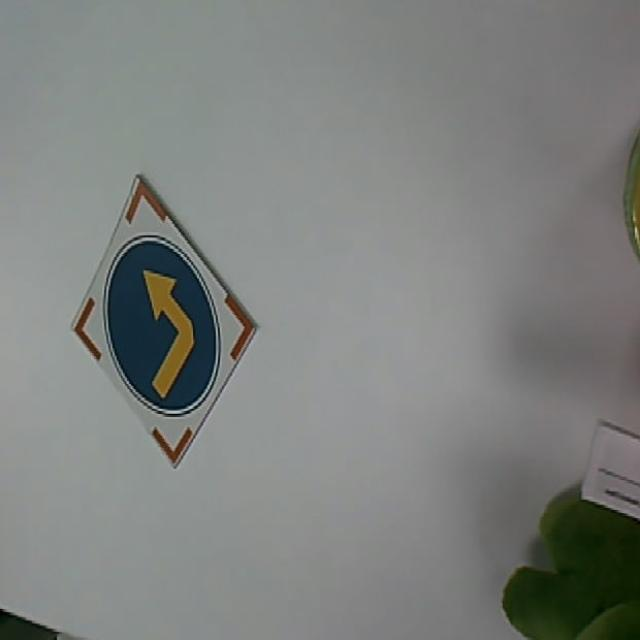turn: (68, 176, 262, 472)
